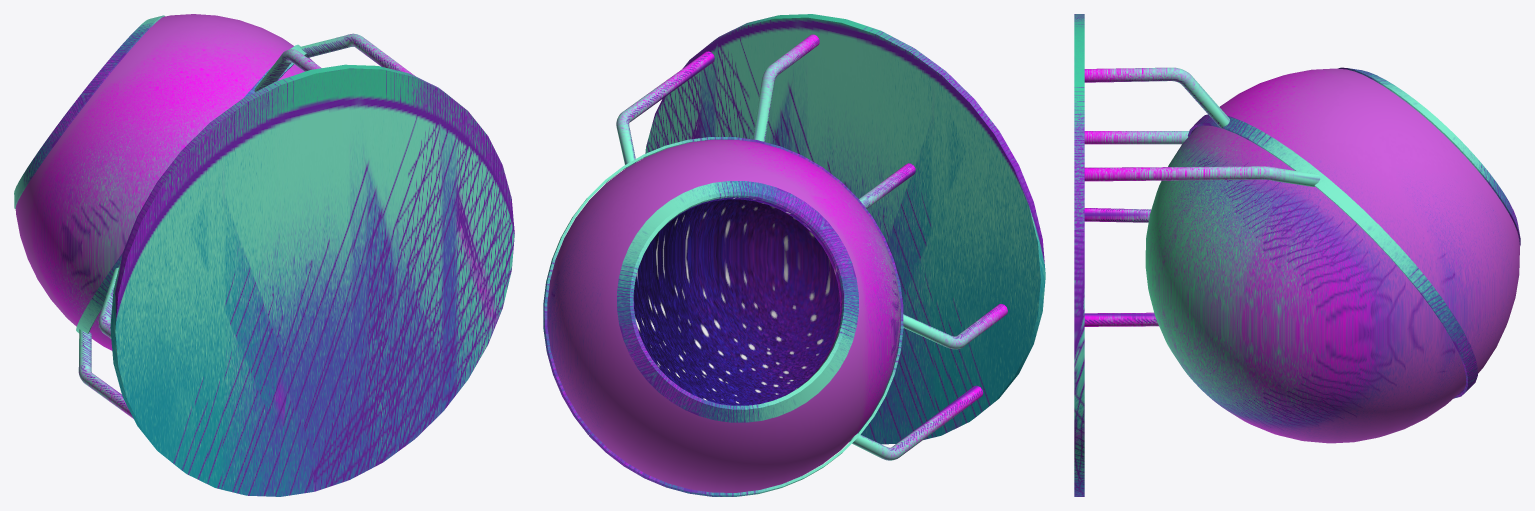
The model's file is TANK.obj.
3 renders of one model, left to right at view 1: azimuth 30°, elevation 25°; view 2: azimuth 150°, elevation 25°; view 3: azimuth 270°, elevation 25°, orthographic. The views are drawn at different scales.
Visible parts, largest first — view 1: TANK; view 2: TANK; view 3: TANK.
Boxes of the visible parts, x1=… form: TANK: x1=14, y1=14, x2=514, y2=496; TANK: x1=543, y1=14, x2=1045, y2=496; TANK: x1=1074, y1=14, x2=1520, y2=496.
Size of the model in its own units: 0.795 by 0.795 by 0.7321.
